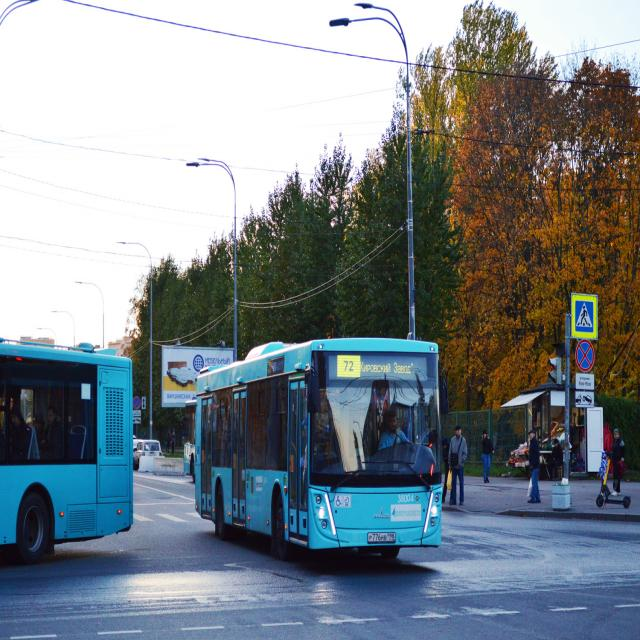number-of-bus: (341, 357, 358, 376)
